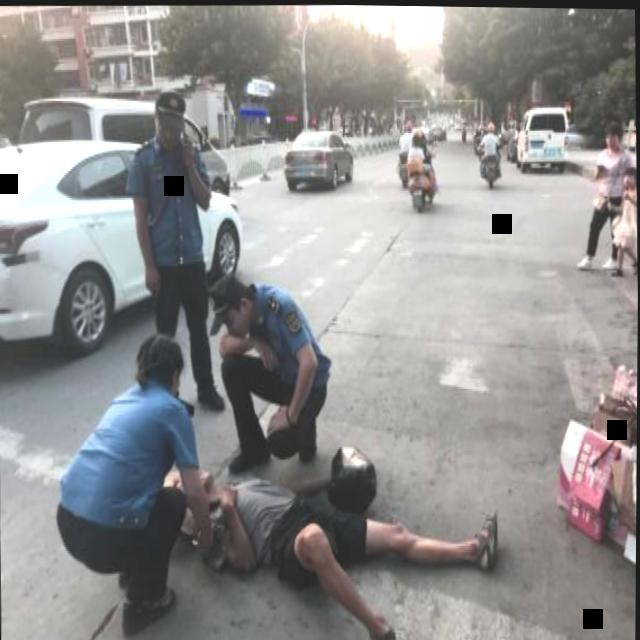Fall-Detected: (177, 434, 511, 638)
